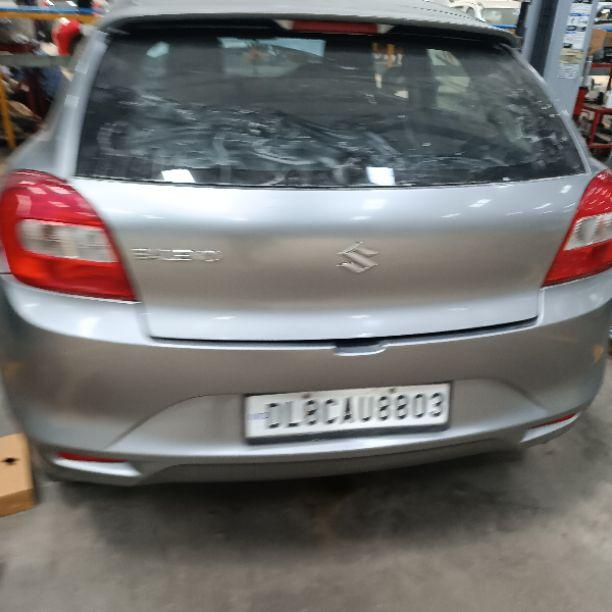license_plate: (241, 381, 452, 443)
